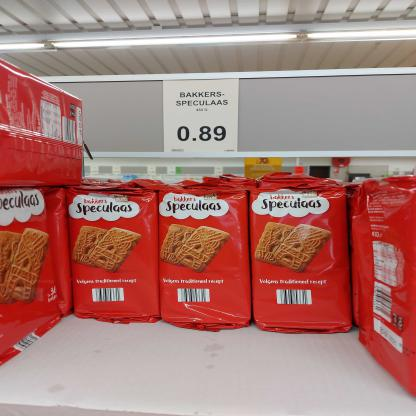prtg: (164, 79, 240, 153)
